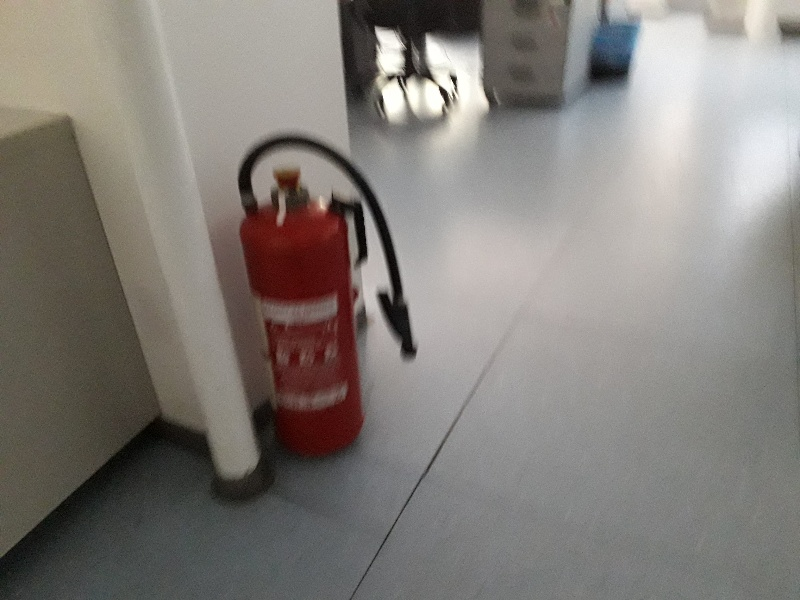vataparat: (237, 135, 417, 458)
